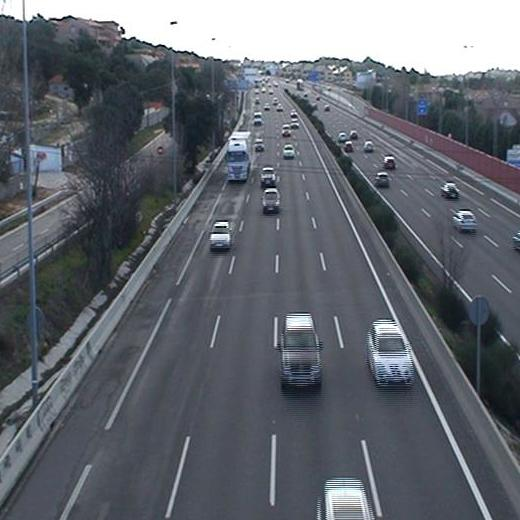car: (363, 319, 416, 387), (279, 313, 323, 388), (208, 220, 233, 250), (260, 187, 281, 214), (259, 166, 277, 185), (281, 144, 297, 161)
truck: (225, 131, 255, 180)
